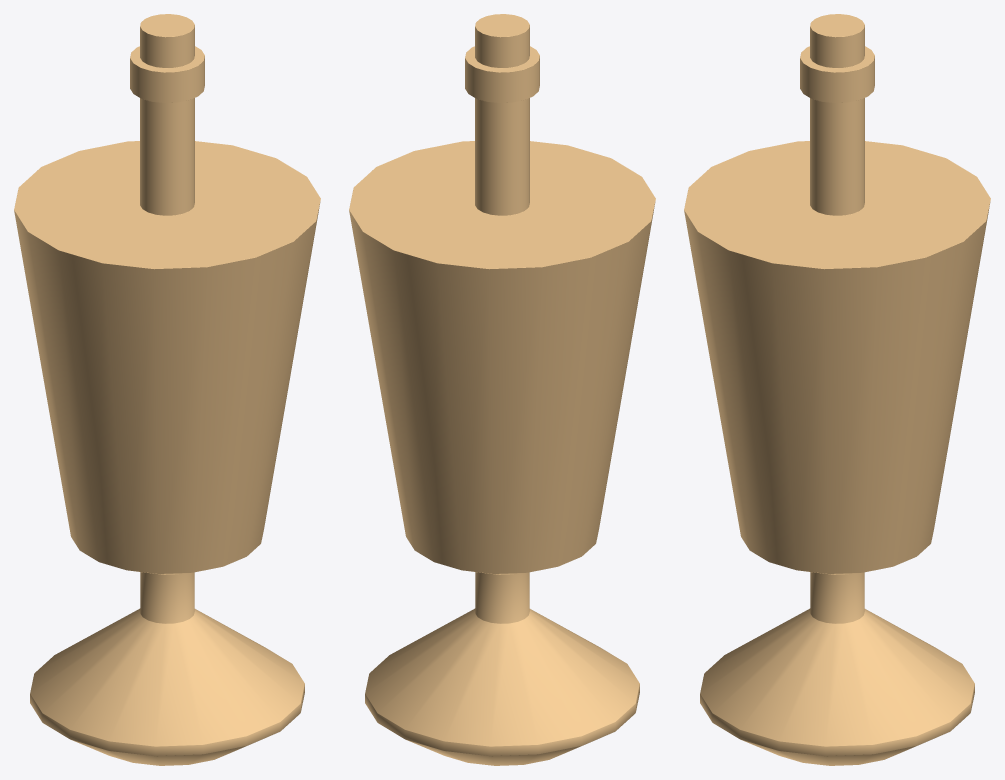
The model's file is chandlierBaseTop.glb.
3 views of the same model, side by side, from view 1: azimuth 30°, elevation 25°; view 2: azimuth 150°, elevation 25°; view 3: azimuth 270°, elevation 25° (orthographic).
Parts seen in each view (by area): view 1: baseTop; view 2: baseTop; view 3: baseTop.
Boxes of the visible parts, x1,y1,x2,y2 form: baseTop: (14, 14, 320, 765); baseTop: (349, 14, 655, 765); baseTop: (684, 14, 990, 765).
Size of the model in its own units: 0.0384 by 0.0992 by 0.0384.
